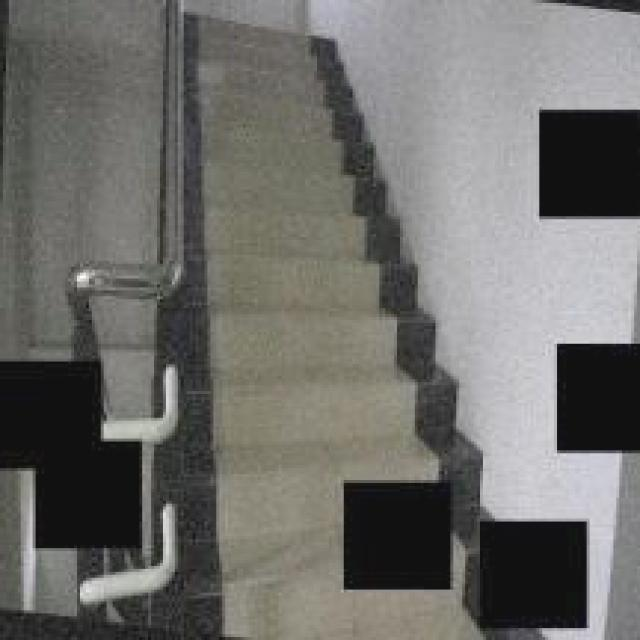upstair: (188, 1, 434, 640)
